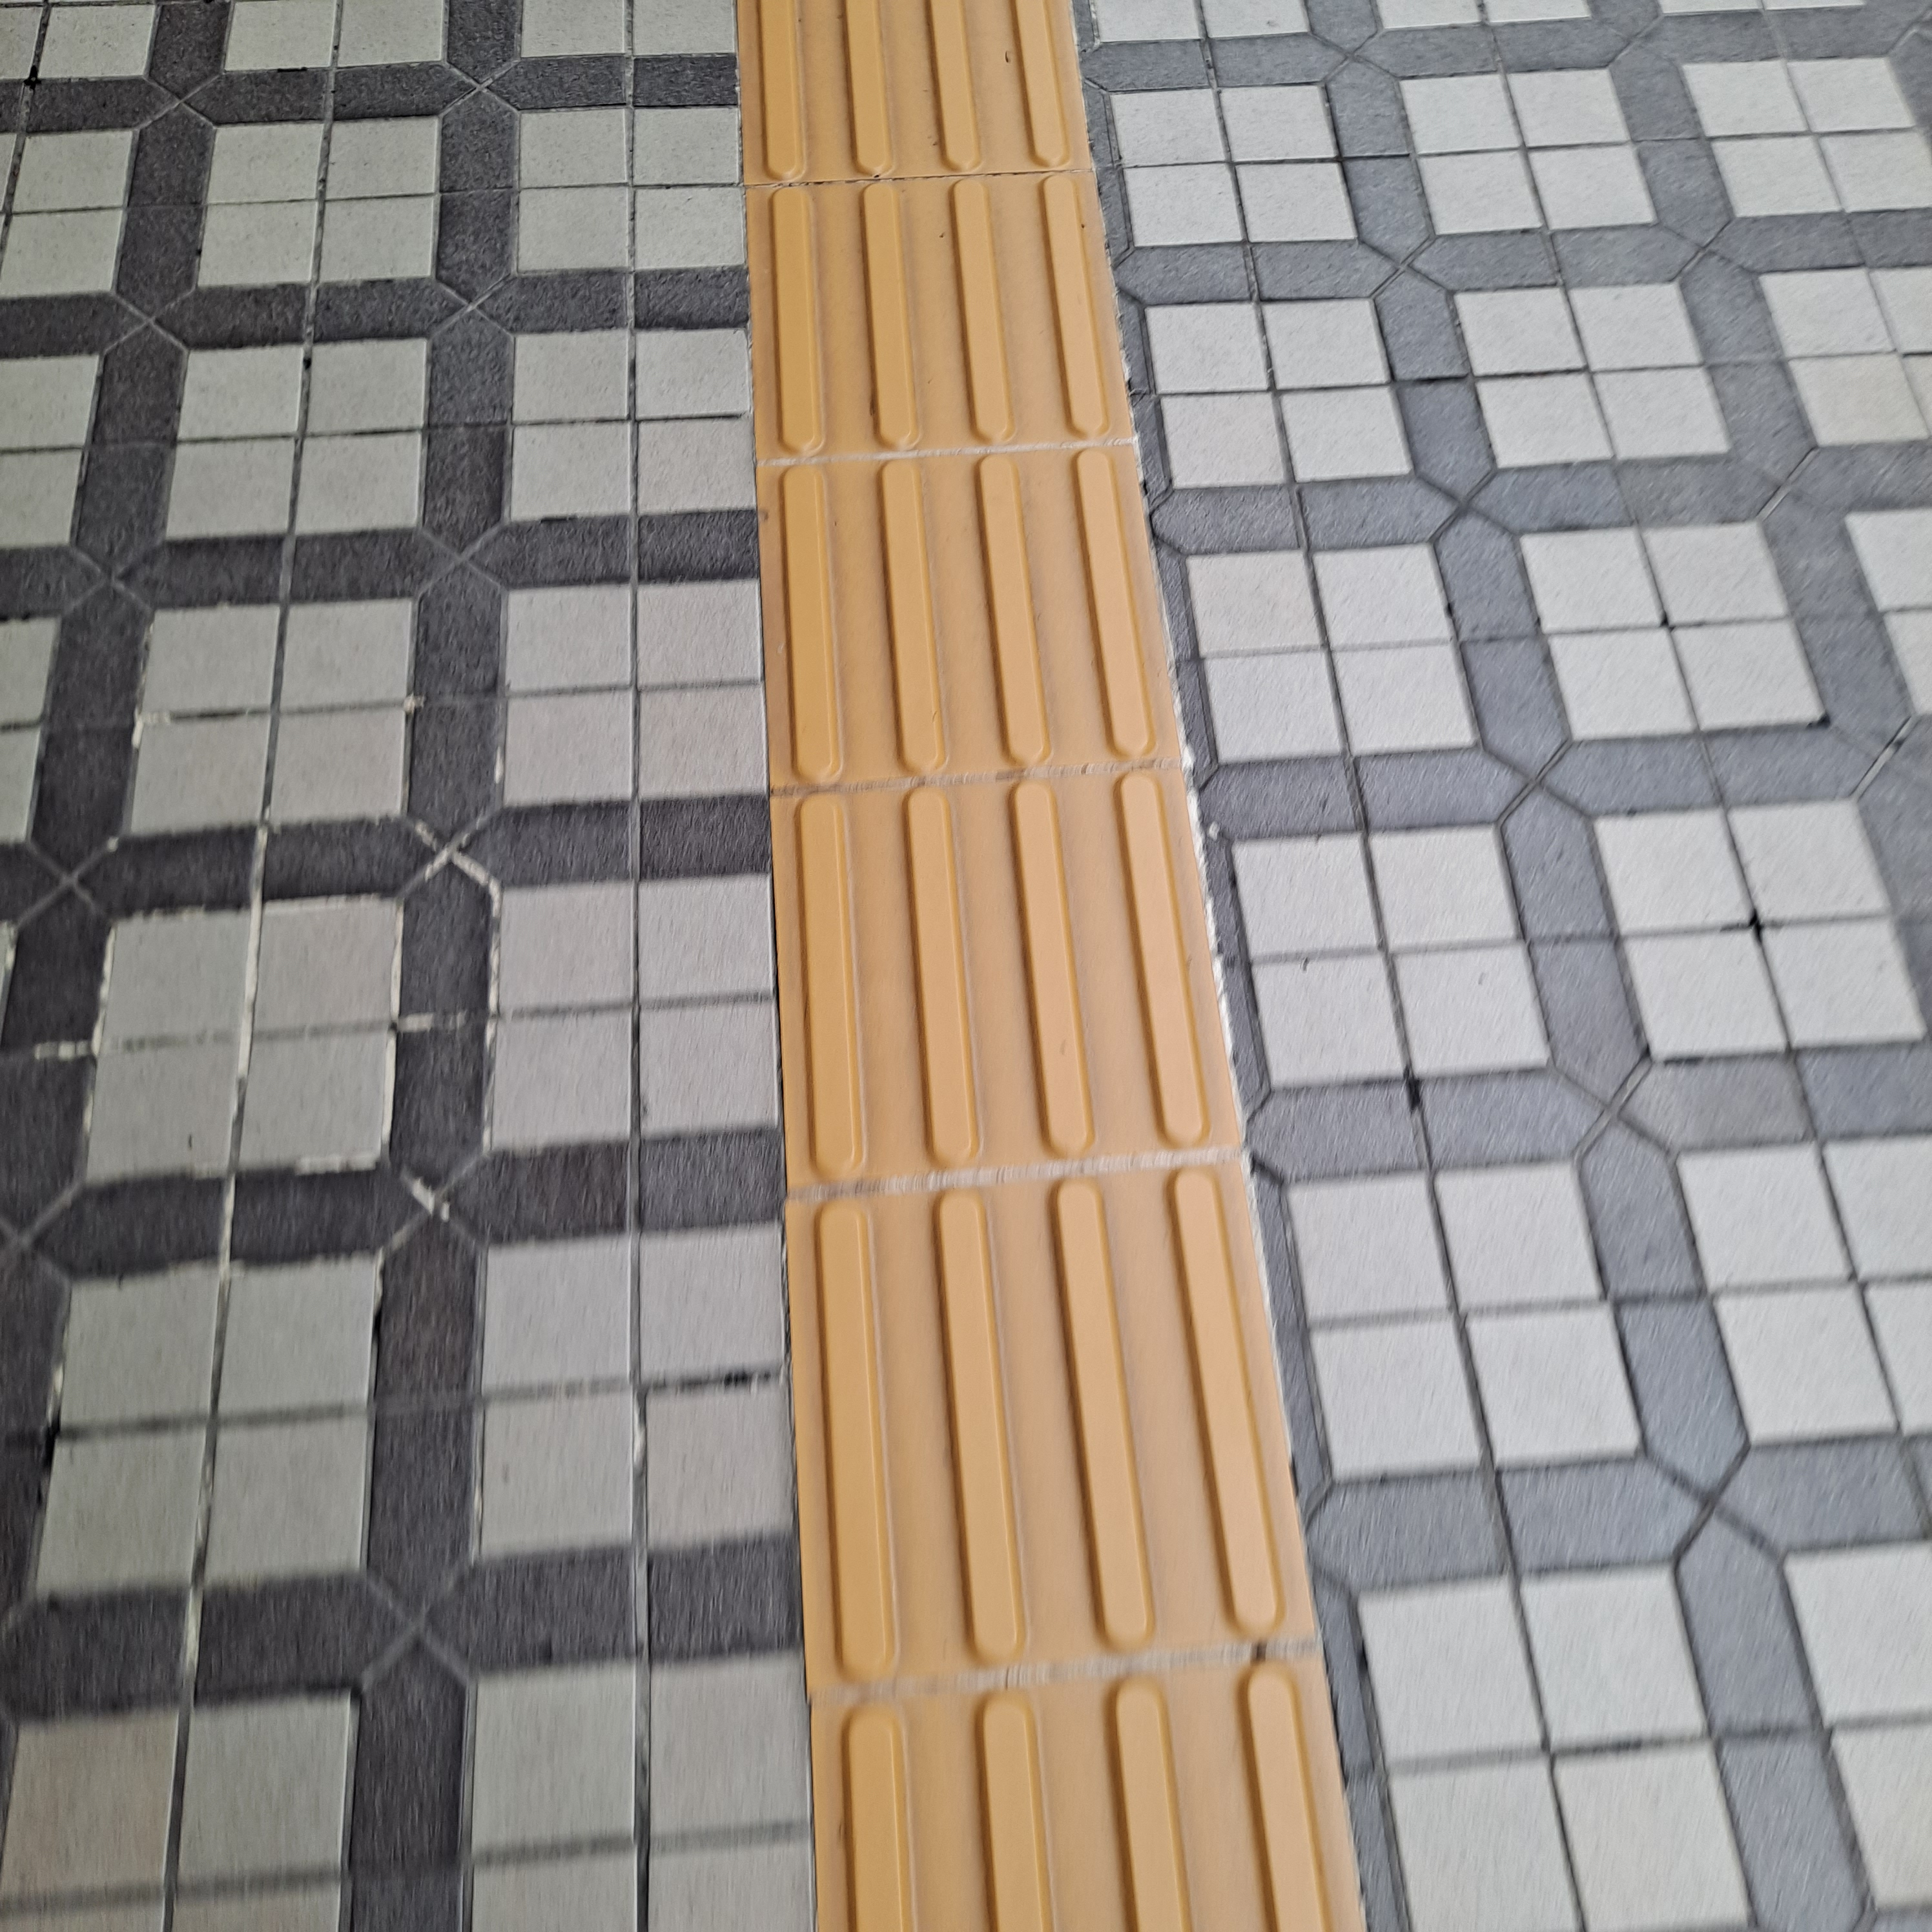guideBlock: (787, 1175, 1306, 1638), (757, 770, 1226, 1138), (754, 458, 1152, 773), (840, 1686, 1325, 1932), (768, 182, 1113, 485), (755, 4, 1093, 159)
